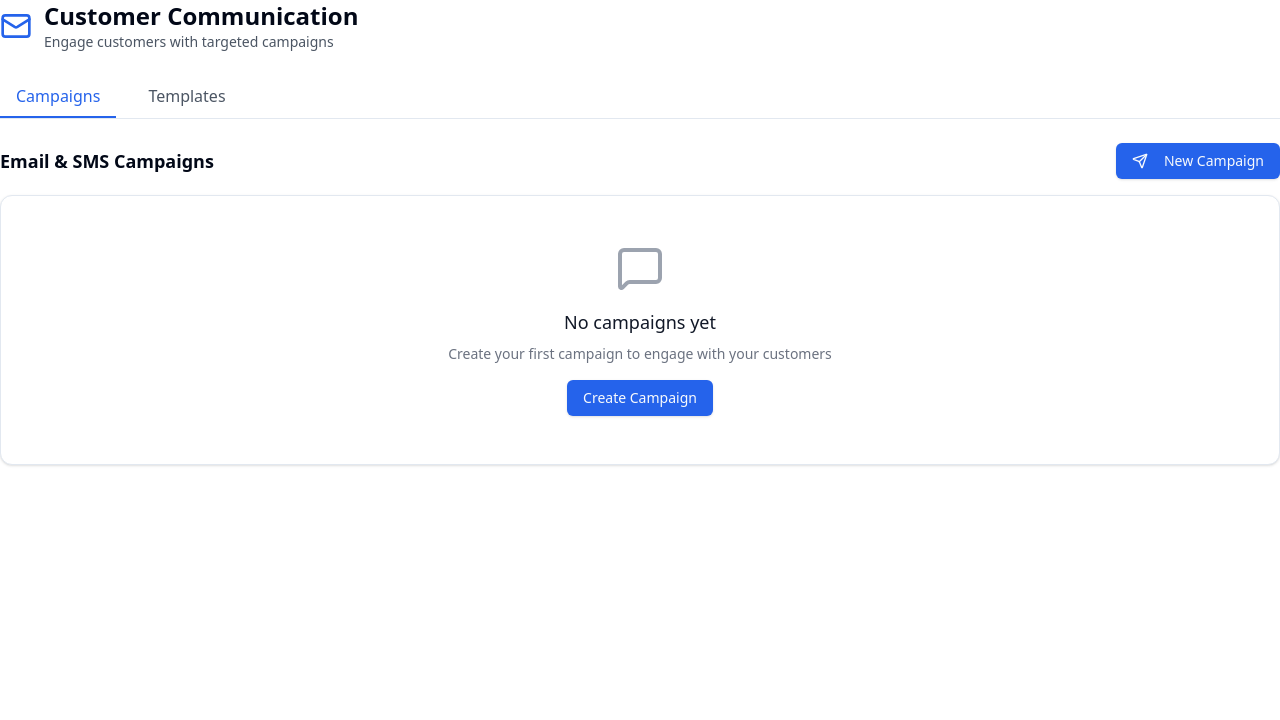
Test case: CustomerCommunication › opens create campaign dialog
This screenshot has width=1280, height=720.
Click the button with test id "create-campaign-btn" at (1198, 161), box [1116,143,1279,179]
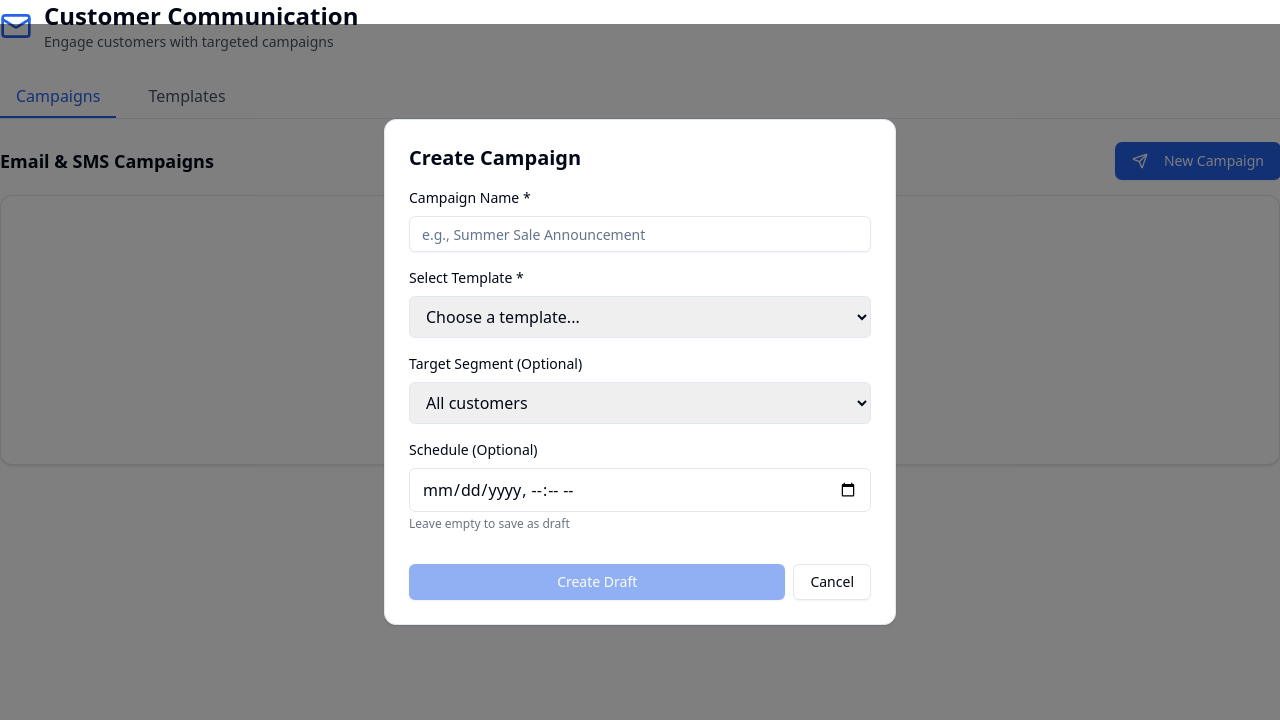
Expected: the element with test id "create-campaign-dialog" is shown
